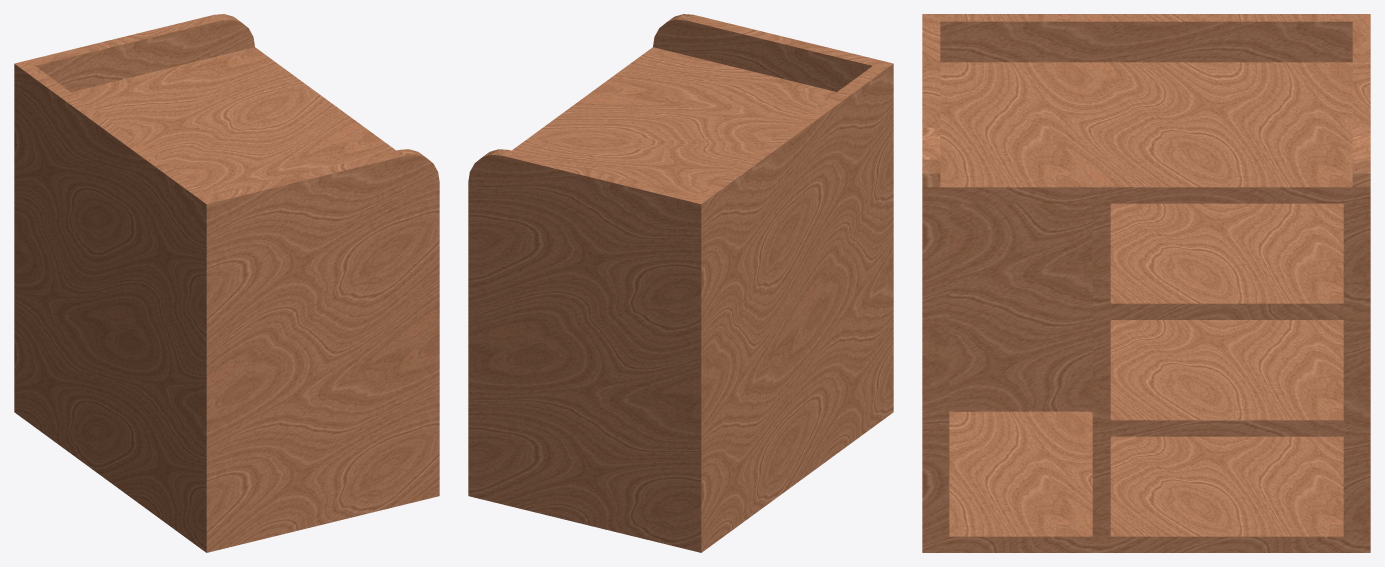
Rendered from cupboard.dae.
3 renders of one model, left to right at view 1: azimuth 30°, elevation 25°; view 2: azimuth 150°, elevation 25°; view 3: azimuth 270°, elevation 25°, orthographic. The views are drawn at different scales.
Parts seen in each view (by area): view 1: skp2B1F; view 2: skp2B1F; view 3: skp2B1F (×5).
Part boxes in pixels (box(x1,y1,x2,y2)): skp2B1F: box(14, 14, 439, 552); skp2B1F: box(468, 14, 893, 552); skp2B1F (×5): box(922, 14, 1370, 552).
Size of the model in its own units: 13.78 by 19.69 by 19.69.
